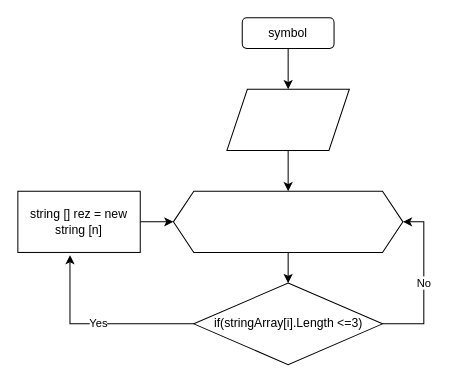
The diagram is 450 pixels wide and 383 high, and some of its shapes have lost their labels. Here are the shapes that lost their labels. From the top down, the box of each, then its label:
(226, 88, 349, 150): stringArray int count = 0 int n = 0
(172, 190, 403, 252): for (int i = 0;i<stringArray.Length;i++)
